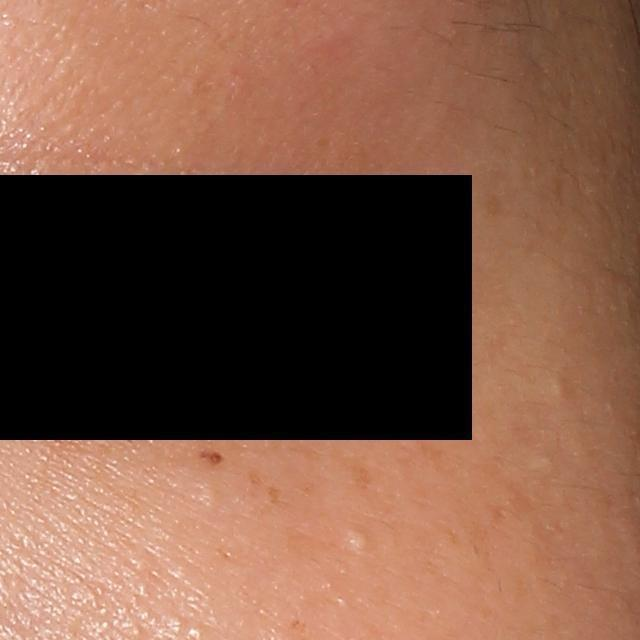comedo: (343, 526, 376, 556), (552, 371, 571, 397)
melasma: (405, 424, 456, 475), (449, 494, 493, 549), (337, 453, 376, 502), (244, 461, 265, 489), (267, 483, 289, 508)
nevus: (196, 448, 229, 470)
